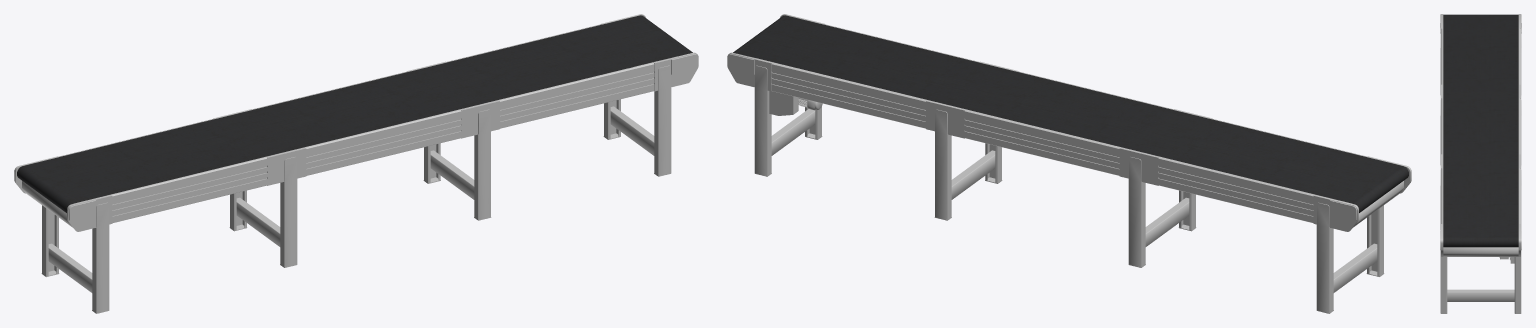
Rendered from BeltConveyor6M.FBX.
3 views of the same model, side by side, from view 1: azimuth 30°, elevation 25°; view 2: azimuth 150°, elevation 25°; view 3: azimuth 270°, elevation 25° (orthographic). The views are drawn at different scales.
Parts seen in each view (by area): view 1: BeltConveyor_Belt, BeltConveyor6M; view 2: BeltConveyor6M, BeltConveyor_Belt; view 3: BeltConveyor_Belt, BeltConveyor6M.
Boxes of the visible parts, x1=… form: BeltConveyor_Belt: x1=17, y1=15, x2=692, y2=212; BeltConveyor6M: x1=14, y1=14, x2=698, y2=313; BeltConveyor6M: x1=727, y1=14, x2=1411, y2=313; BeltConveyor_Belt: x1=733, y1=15, x2=1408, y2=212; BeltConveyor_Belt: x1=1443, y1=14, x2=1518, y2=247; BeltConveyor6M: x1=1440, y1=14, x2=1521, y2=313.
Bounding box in the file's own units: 5.76 × 0.9975 × 0.8703.
